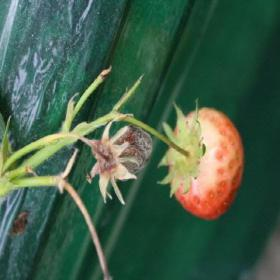Gray Mold: (83, 113, 154, 205)
